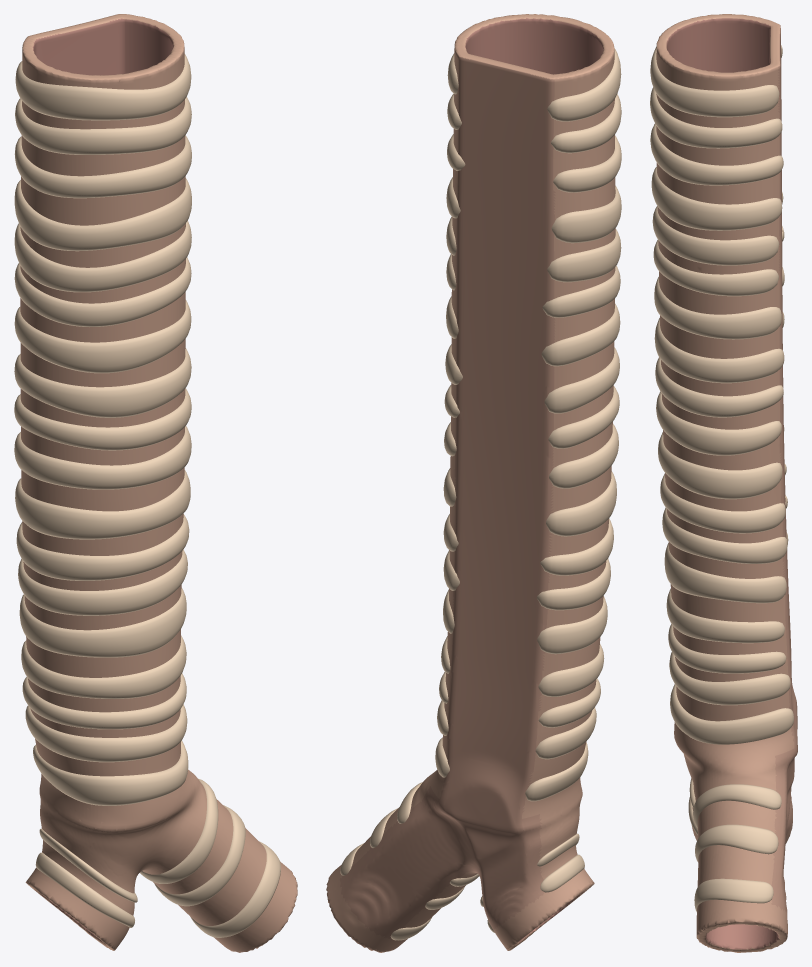
The model's file is whole.glb.
The picture shows the model from 3 angles, left to right: view 1: azimuth 30°, elevation 25°; view 2: azimuth 150°, elevation 25°; view 3: azimuth 270°, elevation 25°; orthographic projection. The views are drawn at different scales.
Parts seen in each view (by area): view 1: Tracheal_Cartilages, Airway_Wall, Bronchial_Cartilages_L, Bronchial_Cartilages_R; view 2: Airway_Wall, Tracheal_Cartilages, Bronchial_Cartilages_L, Bronchial_Cartilages_R; view 3: Airway_Wall, Tracheal_Cartilages, Bronchial_Cartilages_L.
Part boxes in pixels (box(x1,y1,x2,y2)): Tracheal_Cartilages: box(14, 54, 191, 805); Airway_Wall: box(20, 14, 297, 952); Bronchial_Cartilages_L: box(140, 778, 280, 937); Bronchial_Cartilages_R: box(35, 828, 137, 927); Airway_Wall: box(326, 14, 615, 952); Tracheal_Cartilages: box(435, 48, 621, 801); Bronchial_Cartilages_L: box(340, 782, 479, 940); Bronchial_Cartilages_R: box(480, 833, 584, 932); Airway_Wall: box(656, 14, 797, 952); Tracheal_Cartilages: box(650, 45, 793, 744); Bronchial_Cartilages_L: box(693, 784, 781, 911).
Size of the model in its own units: 0.0378 by 0.1249 by 0.0197.
